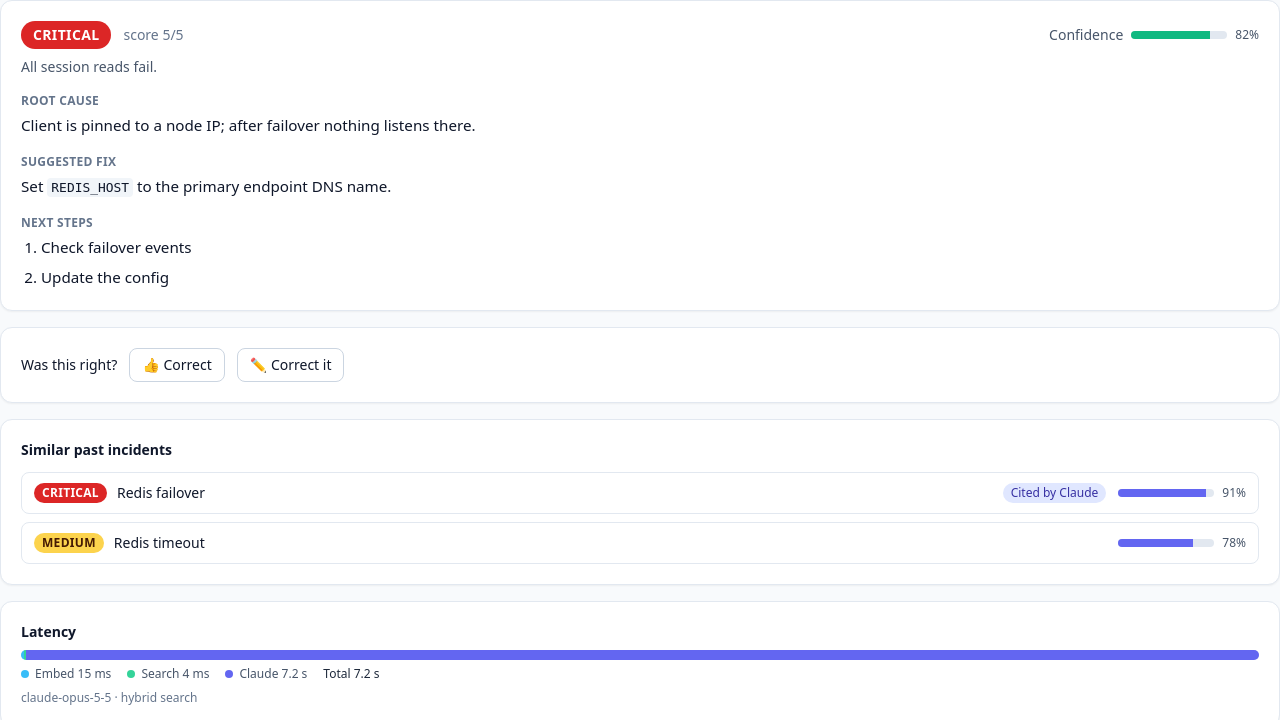
Test: Feedback › sends 👍 for the triage run and confirms
What coordinates should you click on to do the following:
click the button "👍 Correct"
I would click on:
 (177, 365)
Its box is x1=129 y1=348 x2=225 y2=382.
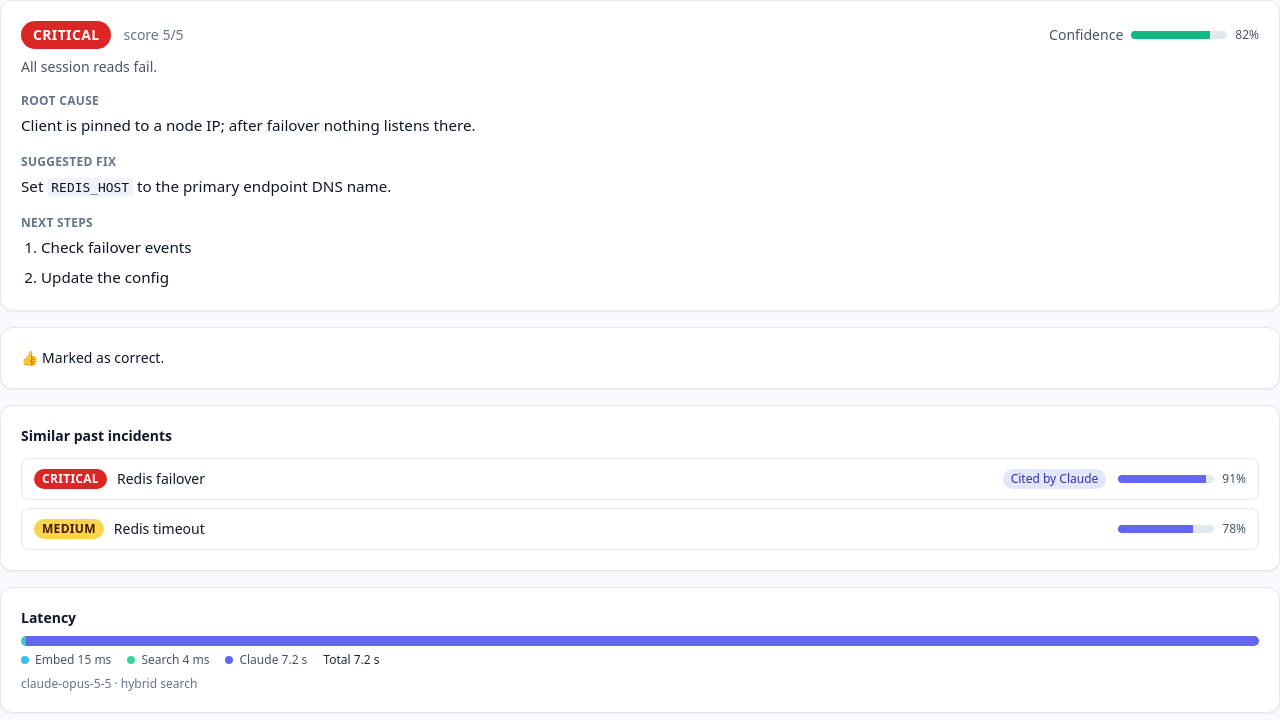
Result: the message with test id "feedback-done" shows "Marked as correct" at x1=21 y1=348 x2=164 y2=367
